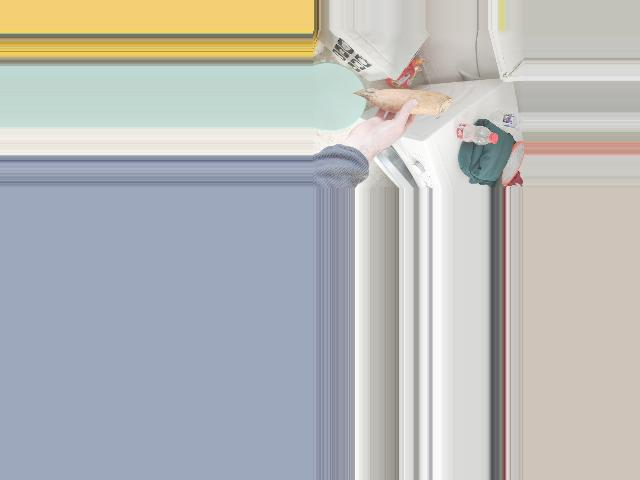sweet_potato: (355, 89, 442, 120)
